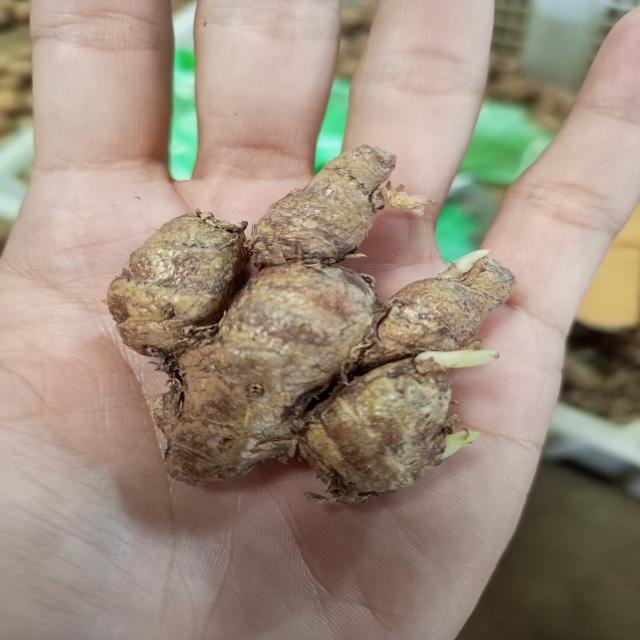ginger: (120, 148, 482, 484)
